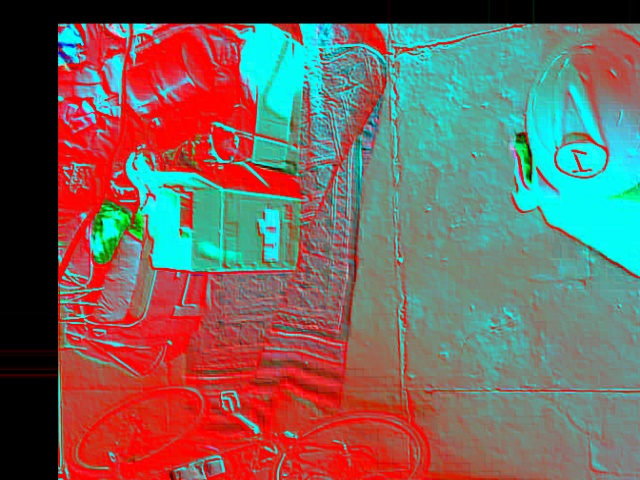one: (553, 142, 606, 178)
